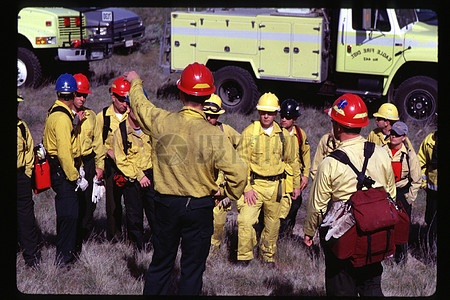blue: (53, 72, 76, 102), (389, 121, 408, 148)
red: (329, 89, 367, 141), (178, 60, 212, 106), (70, 72, 90, 108), (108, 77, 128, 111)
yellow: (255, 92, 278, 125), (375, 103, 397, 131), (202, 96, 221, 123)
